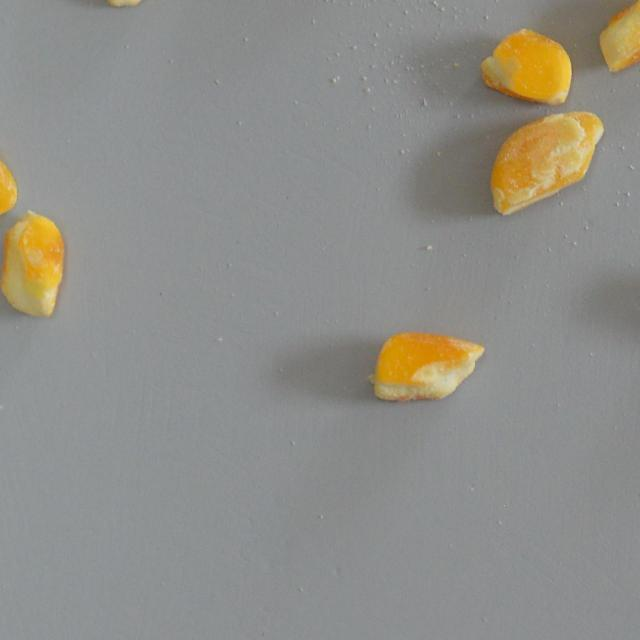dañado: (488, 106, 608, 219), (363, 324, 489, 408), (478, 23, 576, 109), (0, 204, 68, 324), (596, 0, 640, 78), (0, 116, 20, 220), (61, 0, 170, 12)
